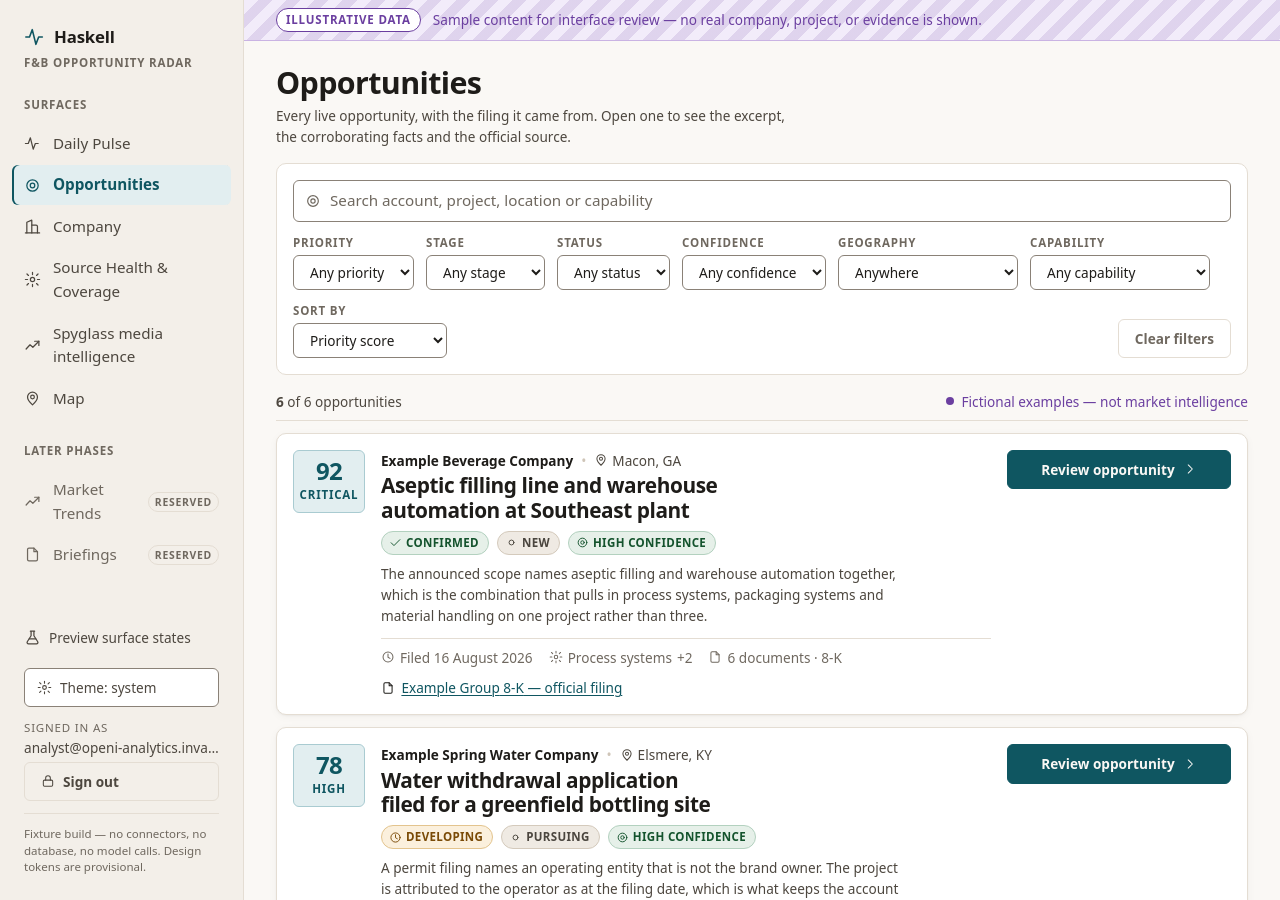
Test case: detail drawer › opens with the full assessment and closes again
Check: the element that starts with "Critical" is shown, box [276,433,1248,715]
Click the button "Review opportunity" in the row of "Macon, GA". click: [1119, 469]
box: [1007,450,1231,489]
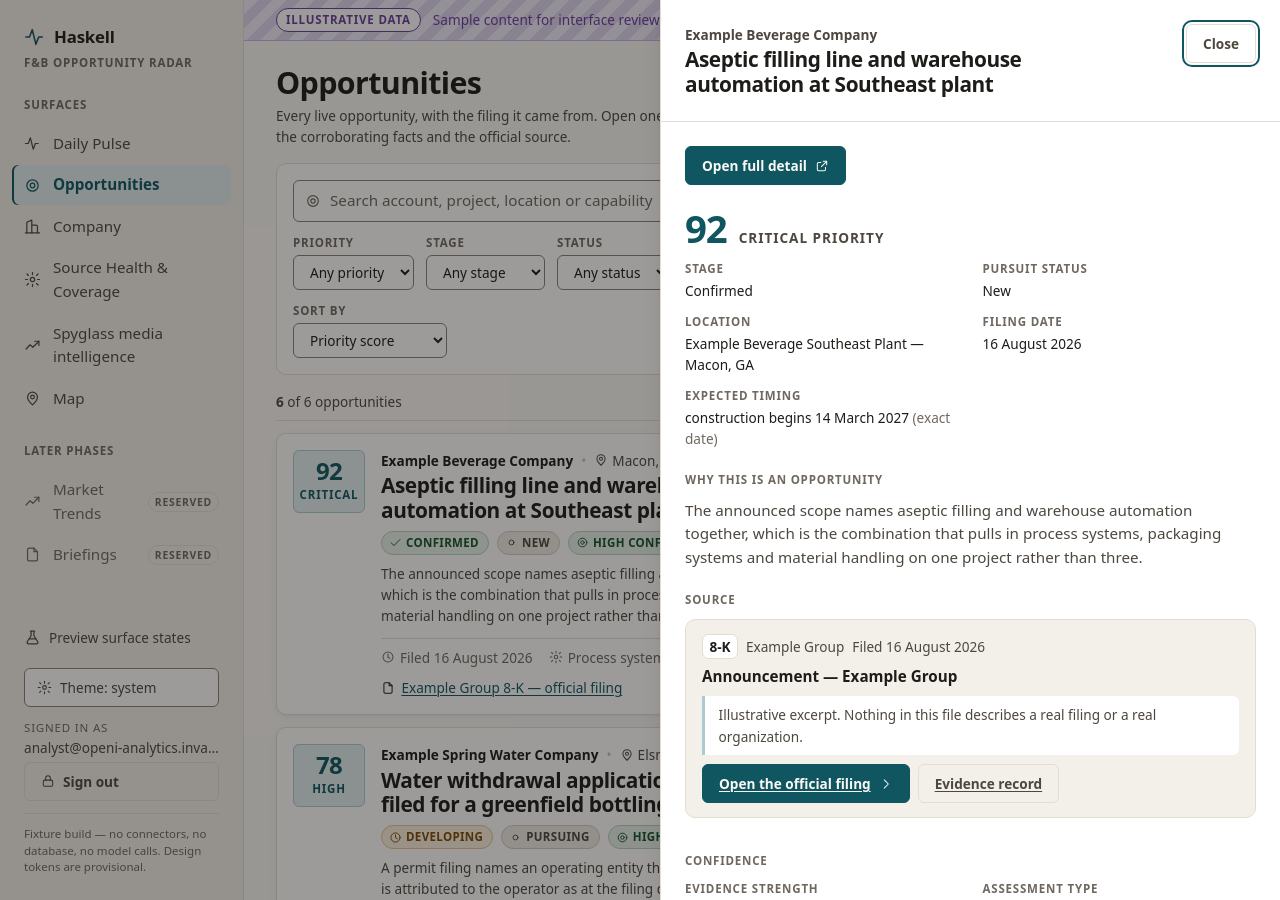
Check: the heading "Why this is an opportunity" is shown, box [685,472,883,487]
Check: the heading "Source" is shown, box [685,592,736,607]
Check: the heading "Confidence" is shown, box [685,853,768,868]
Click the button "Close". click: [1221, 44]
box: [1186,24,1256,63]
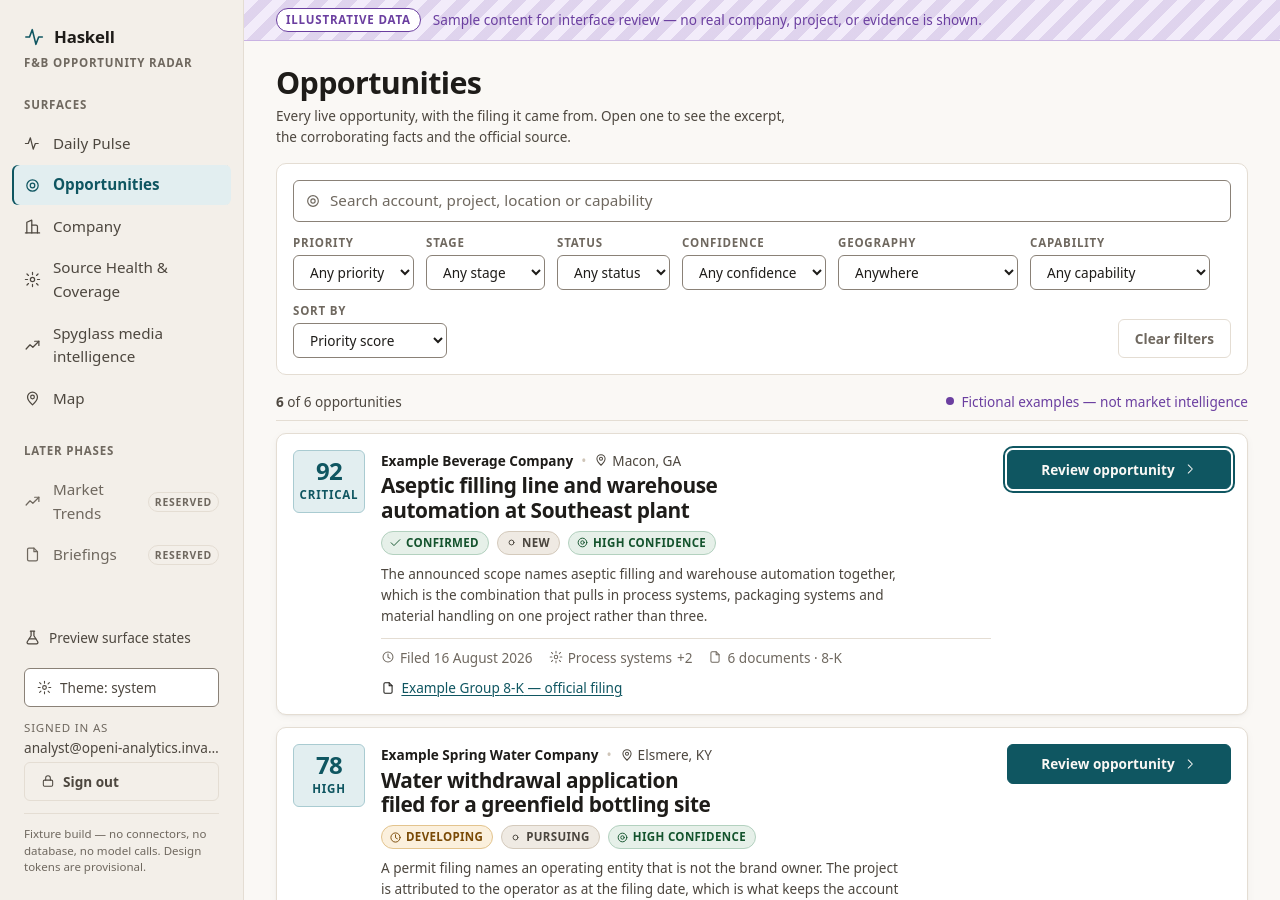
Check: the dialog is gone
